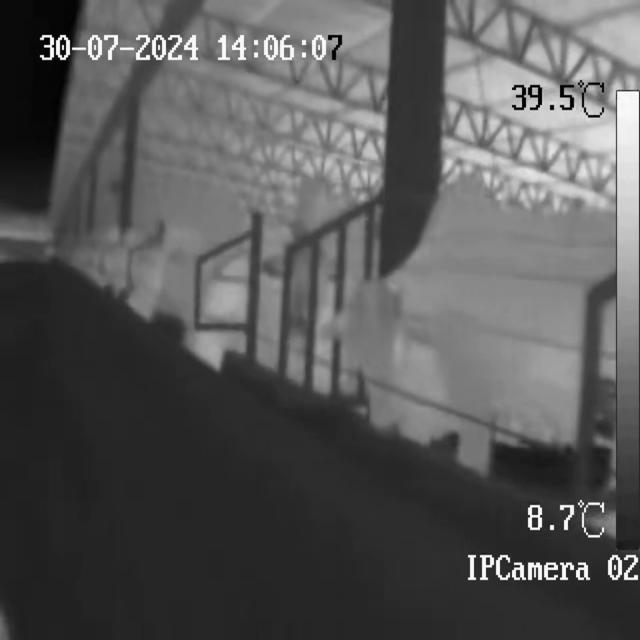eye: (389, 326, 406, 372)
head: (344, 276, 417, 444)
